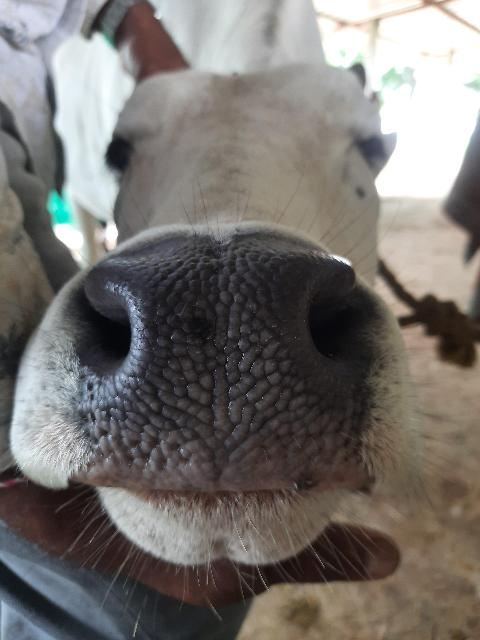Muzzle: (122, 248, 317, 496)
